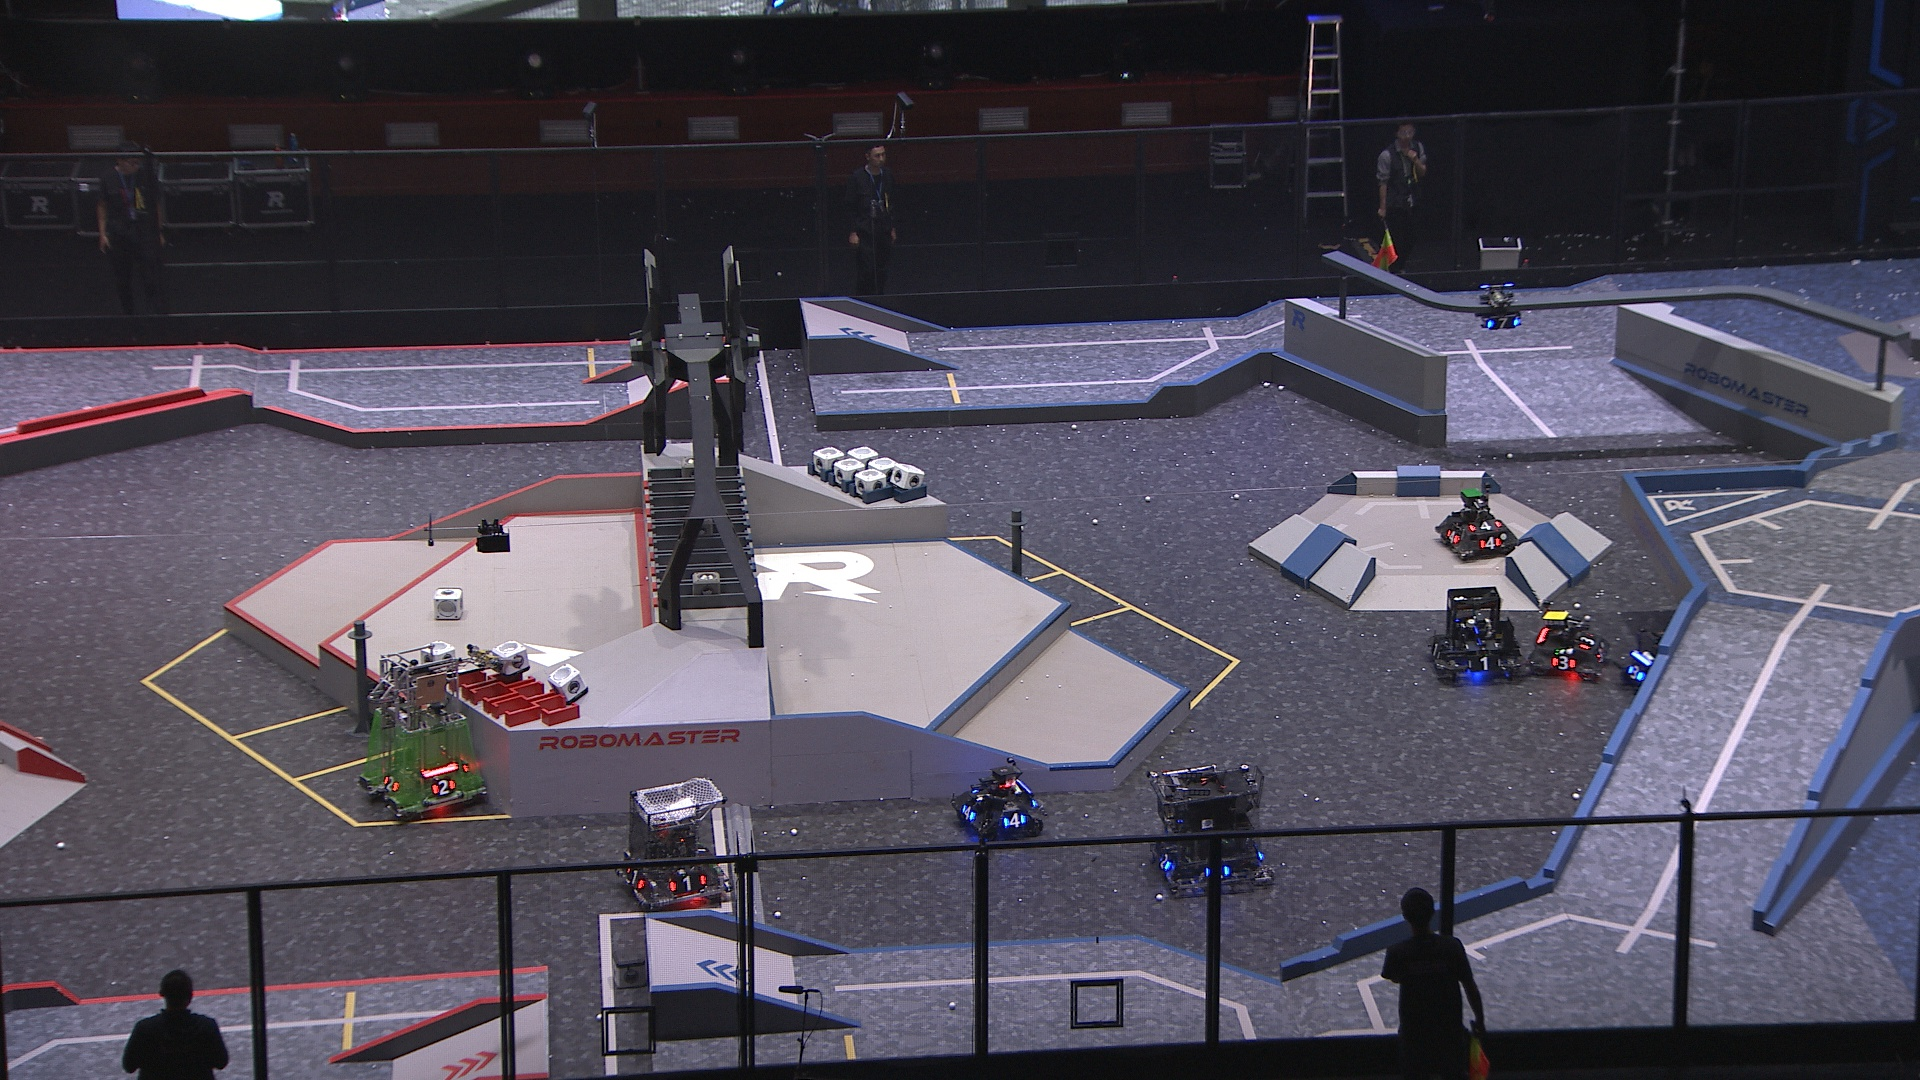armor: (669, 873, 707, 897), (1486, 314, 1522, 334), (1466, 655, 1503, 674), (430, 778, 458, 799), (1465, 638, 1501, 654), (1466, 520, 1505, 533), (626, 865, 647, 889), (1551, 654, 1577, 671), (1004, 812, 1030, 829), (1480, 534, 1505, 551), (1578, 632, 1600, 651), (1626, 665, 1646, 683), (1428, 640, 1444, 662), (960, 804, 978, 823), (384, 774, 401, 794), (1156, 853, 1174, 873), (971, 789, 992, 803), (1447, 527, 1462, 546), (1596, 645, 1607, 665), (698, 844, 712, 858)
car: (357, 642, 489, 822), (1150, 764, 1280, 897), (615, 777, 732, 915), (1427, 585, 1524, 684), (951, 760, 1048, 844), (1523, 608, 1609, 684), (1436, 491, 1519, 564), (1614, 628, 1700, 698)
watcher: (1476, 282, 1523, 334)
